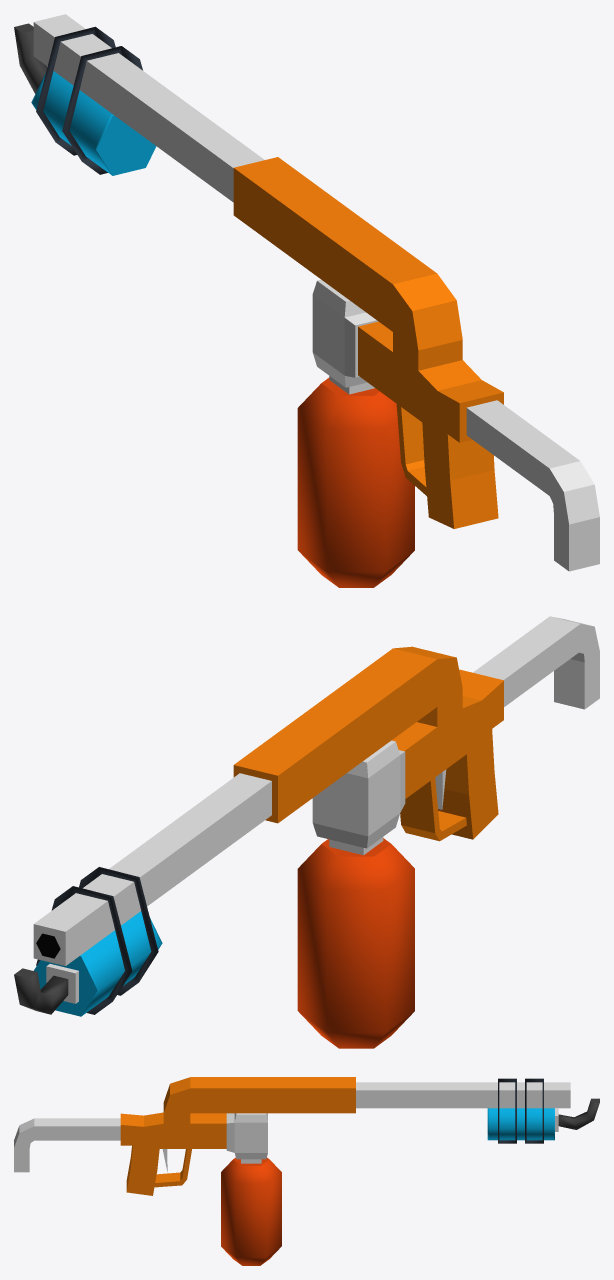
Rendered from weapon_flamethrower.fbx.
3 views of the same model, one above another, from view 1: azimuth 30°, elevation 25°; view 2: azimuth 150°, elevation 25°; view 3: azimuth 270°, elevation 25° (orthographic). The views are drawn at different scales.
Parts seen in each view (by area): view 1: Cube; view 2: Cube; view 3: Cube.
Part boxes in pixels (left/top/right/bottom): Cube: left=14, top=14, right=599, bottom=587; Cube: left=14, top=616, right=599, bottom=1048; Cube: left=14, top=1077, right=599, bottom=1265.
Bounding box in the file's own units: 19.81 × 72.95 × 220.
